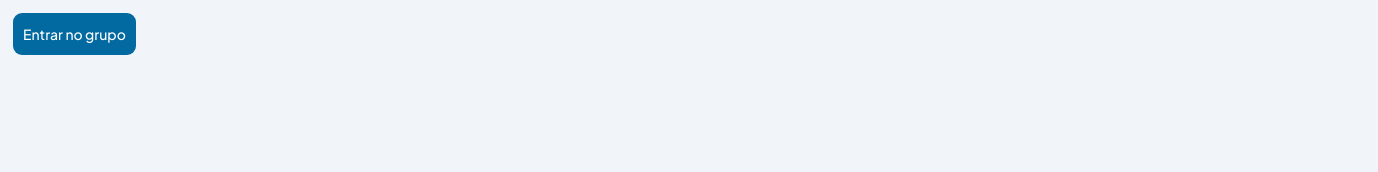
Test case: JoinButton › mostra a mensagem da API num 409 ou 429
The width and height of the screenshot is (1378, 172).
Click the button "Entrar no grupo": x=74, y=34 [12,12,137,56]
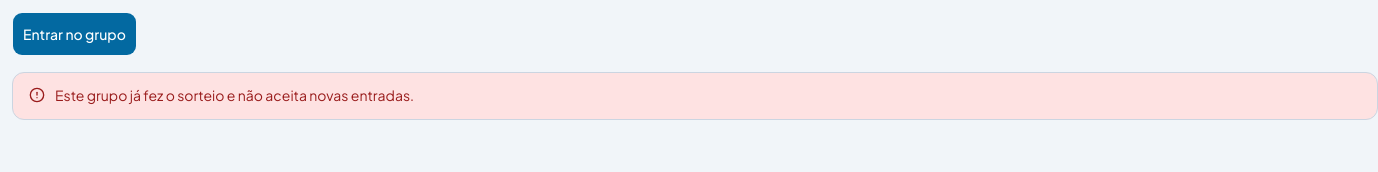
Expected: the message reads "Este grupo já fez o sorteio e não aceita novas entradas.", [55,86,414,104]
Click the button "Entrar no grupo": x=74, y=34 [12,12,137,56]
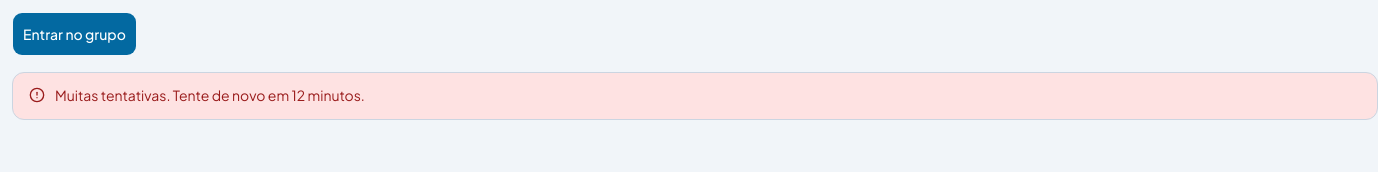
Expected: the message reads "Muitas tentativas. Tente de novo em 12 minutos.", [55,86,365,104]
